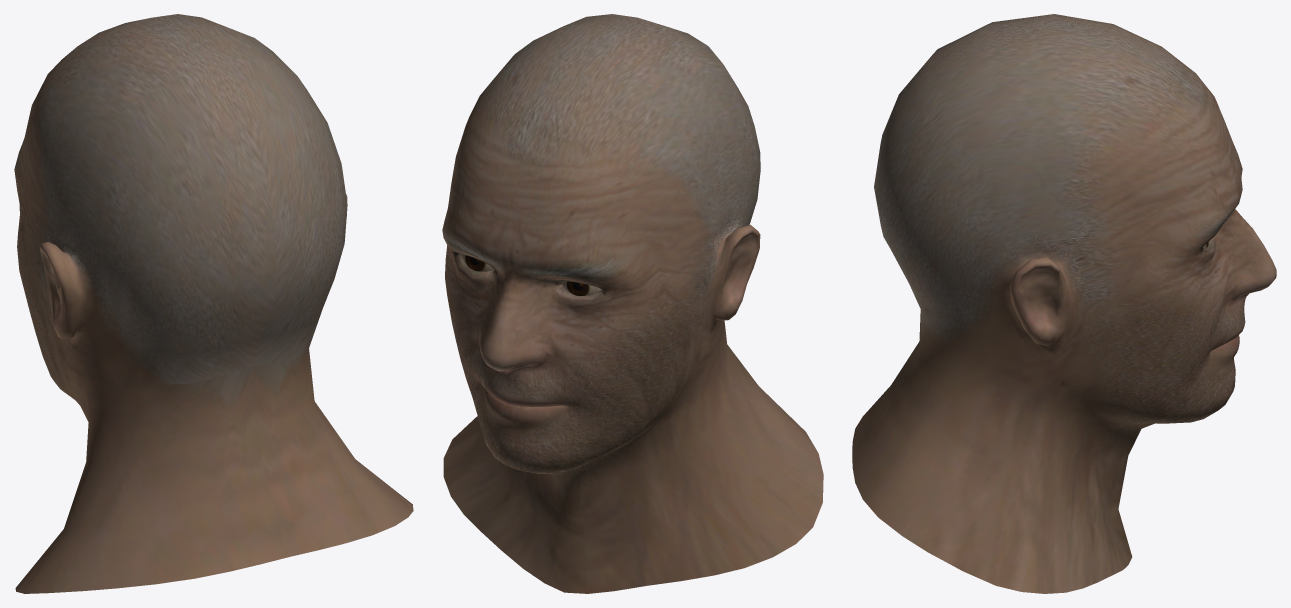
Rendered from G3_Head_Hero_Myrtana_Animated_07_S11.obj.
3 renders of one model, left to right at view 1: azimuth 30°, elevation 25°; view 2: azimuth 150°, elevation 25°; view 3: azimuth 270°, elevation 25°, orthographic. The views are drawn at different scales.
Parts seen in each view (by area): view 1: G3_Animation_Head_Main_07; view 2: G3_Animation_Head_Main_07; view 3: G3_Animation_Head_Main_07.
Part boxes in pixels (bbox=[...]): G3_Animation_Head_Main_07: bbox=[14, 14, 413, 593]; G3_Animation_Head_Main_07: bbox=[442, 14, 823, 593]; G3_Animation_Head_Main_07: bbox=[852, 14, 1276, 593].
Bounding box in the file's own units: 0.2515 × 0.3537 × 0.257.
